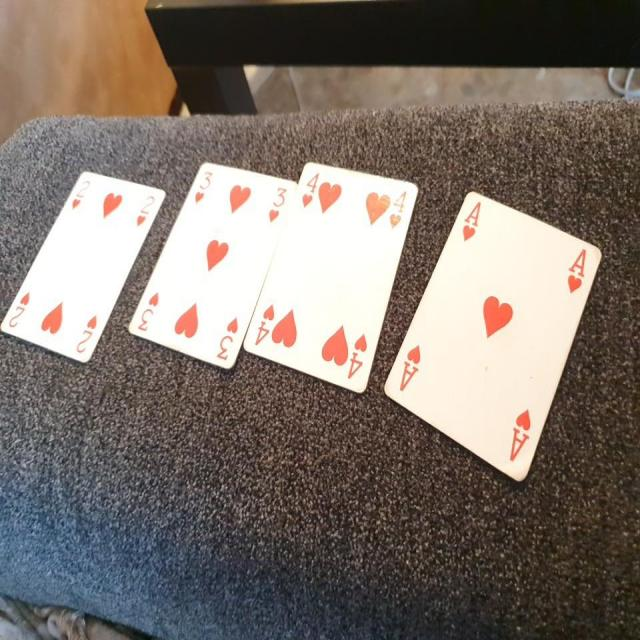2 Hearts: (1, 159, 164, 372)
3 Hearts: (129, 153, 300, 378)
4 Hearts: (242, 157, 417, 400)
A Hearts: (390, 181, 607, 490)
